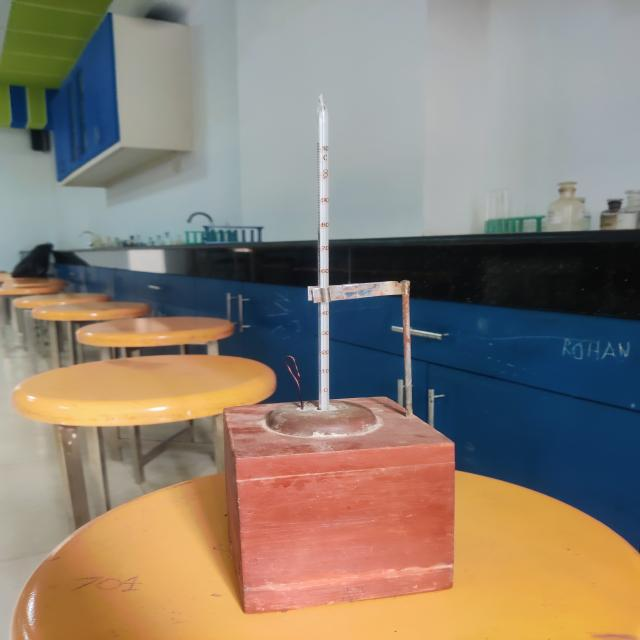Calorimeter: (156, 88, 498, 620)
